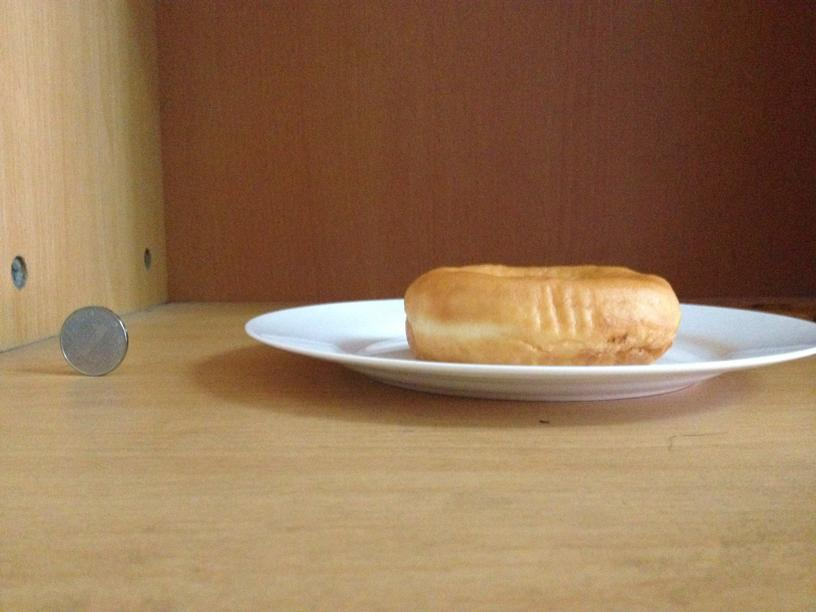coin: (56, 306, 127, 376)
doughnut: (402, 261, 678, 362)
